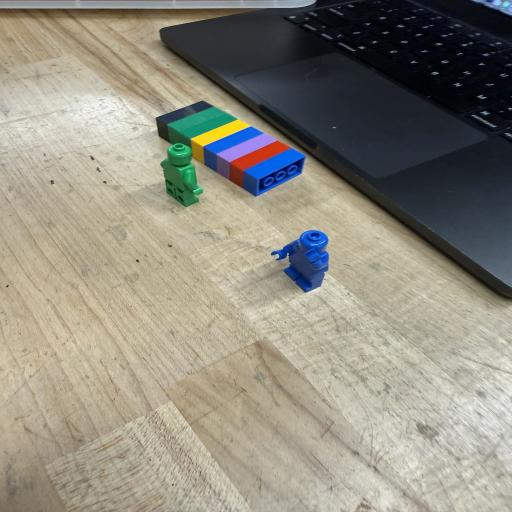blue-minifig: (271, 230, 328, 292)
green-minifig: (161, 144, 202, 206)
